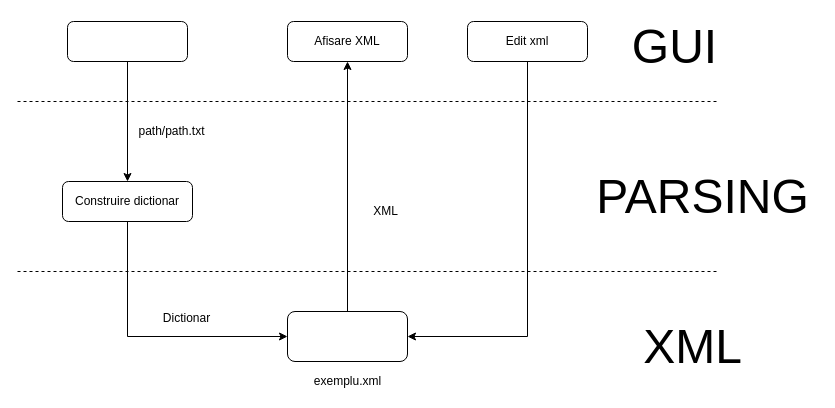
This 835x408 diagram has some shape labels left out. The shapes that lost their labels are listed below. From the top down, each one's centre as x and y in pixels, then its label:
At [127,41]: "Browse".
At [347,336]: "Construire XML".
